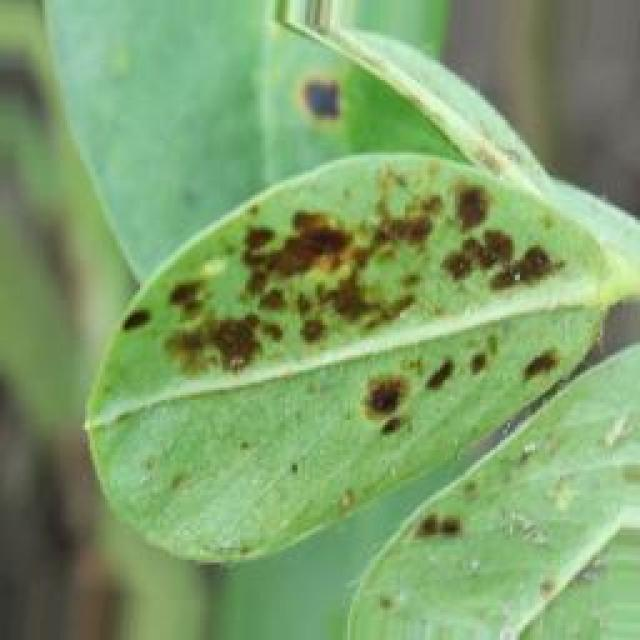Whitefly: (74, 46, 590, 612)
